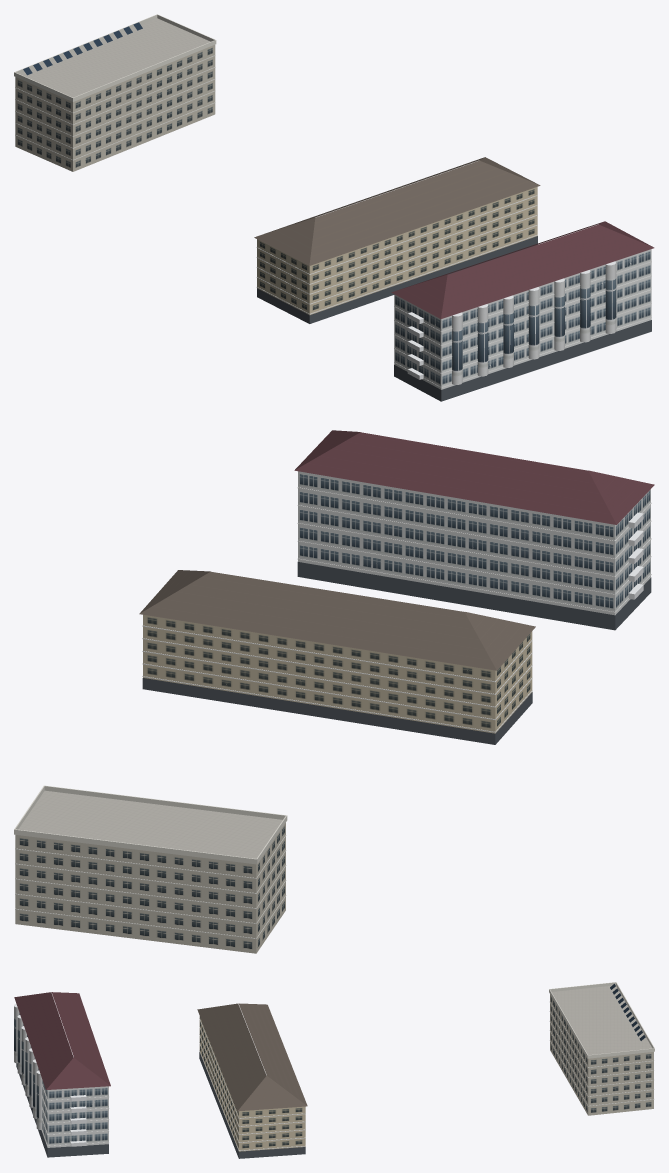
The model's file is dorm_dongyuan_i1.glb.
3 views of the same model, one above another, from view 1: azimuth 30°, elevation 25°; view 2: azimuth 150°, elevation 25°; view 3: azimuth 270°, elevation 25° (orthographic). The views are drawn at different scales.
Visible parts, largest first — view 1: 860503921, 862952685, 1425305080; view 2: 860503921, 862952685, 1425305080; view 3: 860503921, 862952685, 1425305080.
Boxes of the visible parts, x1,y1,x2,y2 form: 860503921: (391,221,654,401); 862952685: (254,157,540,323); 1425305080: (14,14,216,171); 860503921: (294,430,654,630); 862952685: (139,570,535,744); 1425305080: (14,785,287,953); 860503921: (14,992,110,1157); 862952685: (197,1003,307,1158); 1425305080: (549,982,654,1115).
Bounding box in the file's own units: 78.3 × 26.55 × 181.
6 materials, 4 textured.
